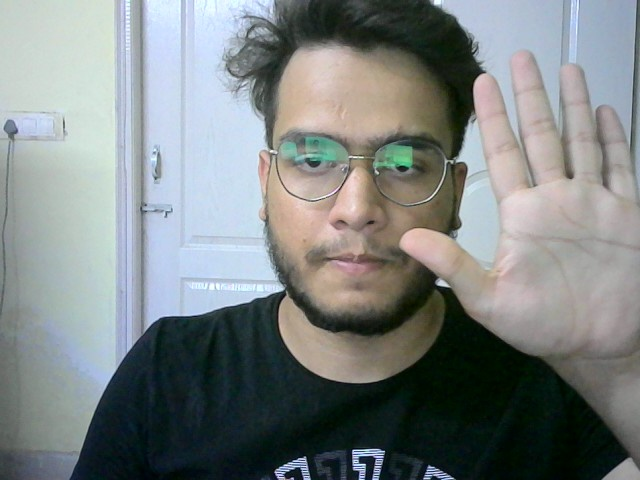Hello: (404, 56, 640, 368)
